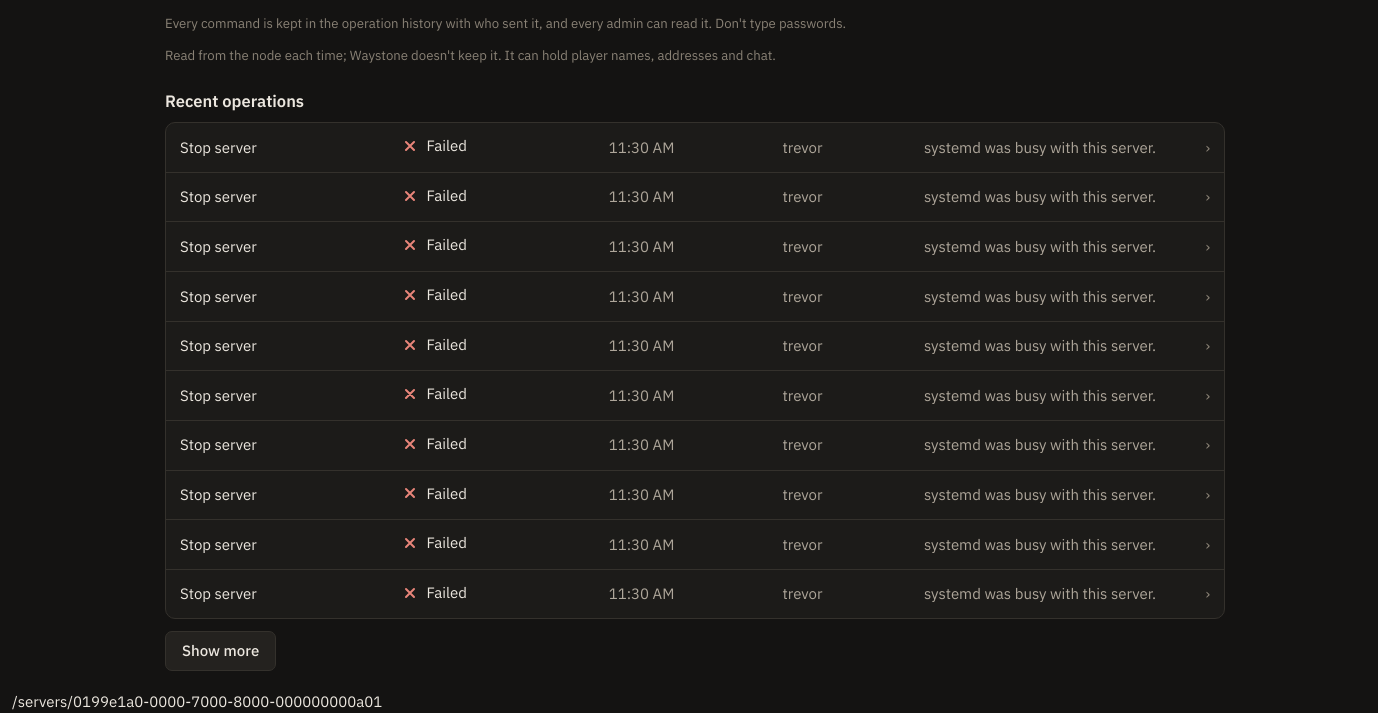
Test case: server page (wireframes §3) › history: action, state, time, who, and the error or duration; Show more asks for more
(page scrolled)
Expected: the text "Stop server" is shown, left=180, top=136, right=1210, bottom=157
Expected: the text "Failed" is shown, left=180, top=136, right=1210, bottom=157
Click the button "Show more" at [221, 651], box left=165, top=632, right=276, bottom=671
(page scrolled)
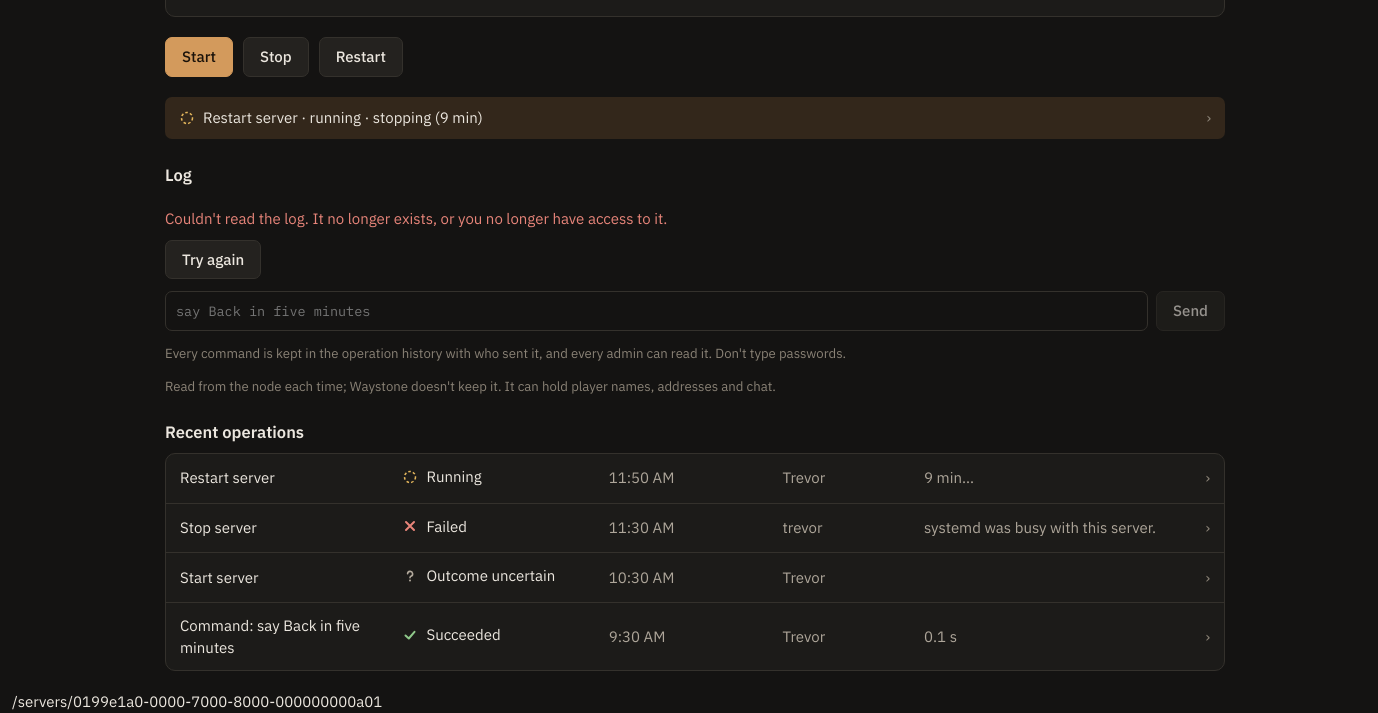
Result: the button "Show more" is gone
Result: the link "Start server Outcome uncertain 10:30 AM Trevor ›" is shown at left=180, top=566, right=1210, bottom=587
Result: the link that starts with "Command: say Back in five minutes" is shown at left=166, top=603, right=1224, bottom=670
